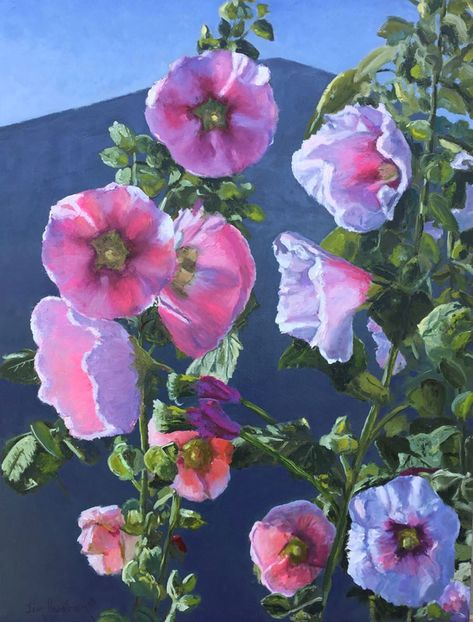Hibiscus: (133, 36, 294, 186), (21, 288, 160, 442), (39, 177, 182, 324), (271, 222, 398, 383), (285, 92, 433, 227), (158, 213, 265, 365), (346, 474, 458, 615), (69, 499, 155, 588), (158, 431, 239, 499)
